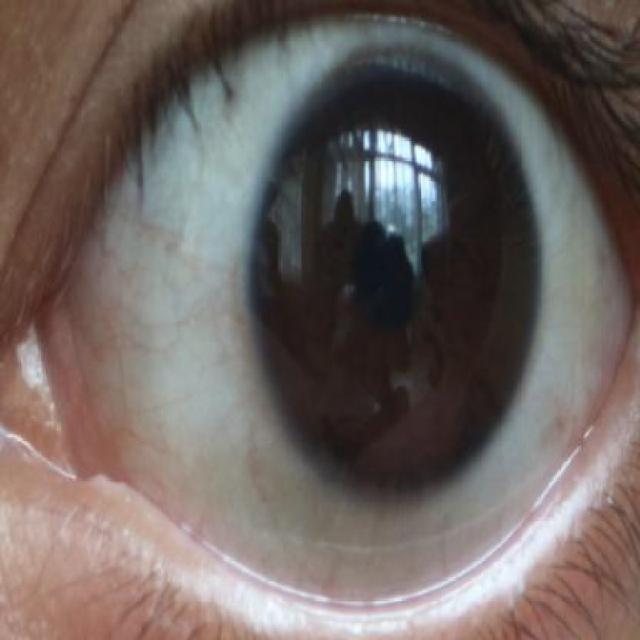Normal: (244, 48, 547, 506)
